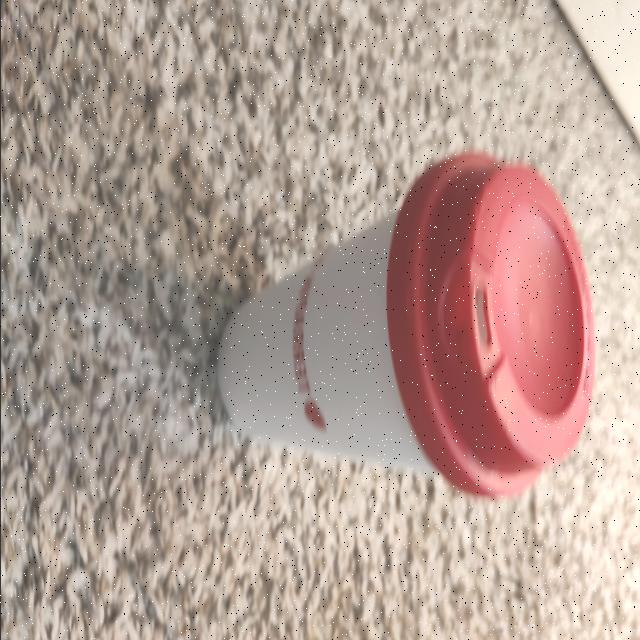mug: (214, 163, 590, 507)
